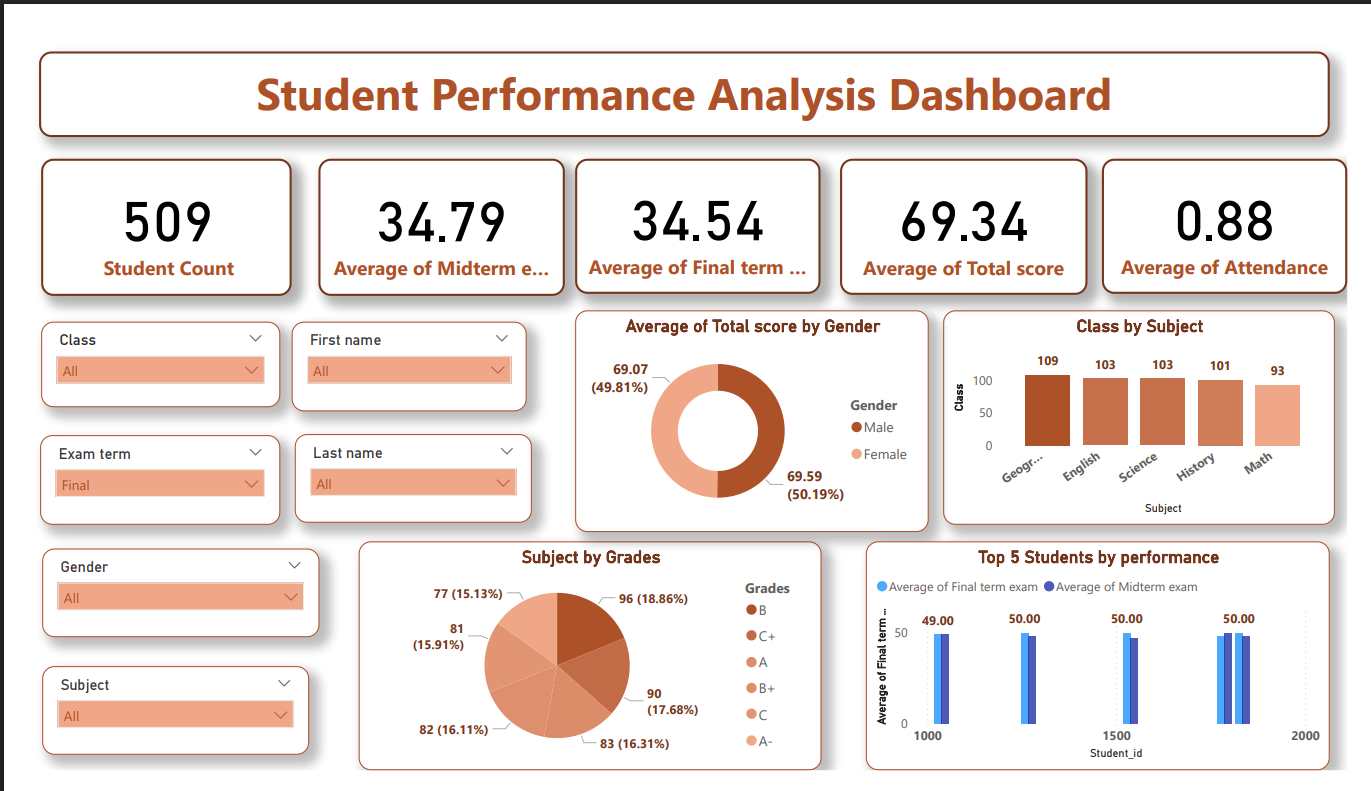

The page's visual inventory and layout, read from the dashboard file:
{"tool":"powerbi","page":{"name":"Page 1","canvas":[1280,720],"ordinal":0},"visuals":[{"type":"clusteredColumnChart","fields":{"Y":["CountNonNull(Sheet1.Class)"],"Category":["Sheet1.Subject"]},"box":[887.8,274.4,380.1,207.2],"z":0},{"type":"textbox","box":[11,23.2,1252.2,83.2],"z":1000},{"type":"card","fields":{"Values":["CountNonNull(Sheet1.Student_id)"]},"box":[13.5,127.2,242.1,133.3],"z":2000},{"type":"card","fields":{"Values":["Avg(Sheet1.Midterm exam)"]},"box":[282.5,127.2,238.5,133.3],"z":3000},{"type":"card","fields":{"Values":["Avg(Sheet1.Final term exam)"]},"box":[530.7,127.2,238.5,130.8],"z":4000},{"type":"card","fields":{"Values":["Avg(Sheet1.Total score)"]},"box":[787.5,127.2,240.9,132.1],"z":5000},{"type":"card","fields":{"Values":["Avg(Sheet1.Attendance)"]},"box":[1041.9,127.2,238.5,130.8],"z":6000},{"type":"slicer","fields":{"Values":["Sheet1.Class"]},"box":[13.5,284.9,231.1,83.2],"z":7000},{"type":"slicer","fields":{"Values":["Sheet1.Exam term"]},"box":[12.2,395,232.3,86.8],"z":8000},{"type":"slicer","fields":{"Values":["Sheet1.Subject"]},"box":[13.7,618.9,259.3,86.4],"z":9000},{"type":"pieChart","fields":{"Category":["Sheet1.Grades"],"Y":["CountNonNull(Sheet1.Subject)"]},"box":[321.1,498.1,448.7,222.3],"z":10000},{"type":"slicer","fields":{"Values":["Sheet1.First name"]},"box":[255.6,284.9,228.7,86.8],"z":11000},{"type":"slicer","fields":{"Values":["Sheet1.Last name"]},"box":[259.3,393.8,229.2,86.4],"z":12000},{"type":"donutChart","fields":{"Category":["Sheet1.Gender"],"Y":["Avg(Sheet1.Total score)"]},"box":[531,274.4,343.1,214.1],"z":13000},{"type":"slicer","fields":{"Values":["Sheet1.Gender"]},"box":[13.7,505,269,86.4],"z":14000},{"type":"clusteredColumnChart","title":"Top 5 Students by performance","fields":{"Y":["Avg(Sheet1.Final term exam)","Avg(Sheet1.Midterm exam)"],"Category":["Sheet1.Student_id"]},"box":[813.2,497.7,450,222.6],"z":15000}]}

Visuals, with their boxes in screenshot pixels (x1, y1, x2, y2), scaled from the page's 1280x720 canvas onto the 1371x791 screenshot:
clusteredColumnChart - CountNonNull(Sheet1.Class) x Sheet1.Subject: (951,301,1358,529)
textbox: (12,25,1353,117)
card - CountNonNull(Sheet1.Student_id): (14,140,274,286)
card - Avg(Sheet1.Midterm exam): (303,140,558,286)
card - Avg(Sheet1.Final term exam): (568,140,824,283)
card - Avg(Sheet1.Total score): (843,140,1102,285)
card - Avg(Sheet1.Attendance): (1116,140,1370,283)
slicer - Sheet1.Class: (14,313,262,404)
slicer - Sheet1.Exam term: (13,434,262,529)
slicer - Sheet1.Subject: (15,680,292,775)
pieChart - Sheet1.Grades x CountNonNull(Sheet1.Subject): (344,547,825,790)
slicer - Sheet1.First name: (274,313,519,408)
slicer - Sheet1.Last name: (278,433,523,528)
donutChart - Sheet1.Gender x Avg(Sheet1.Total score): (569,301,936,537)
slicer - Sheet1.Gender: (15,555,303,650)
"Top 5 Students by performance" clusteredColumnChart: (871,547,1353,790)
